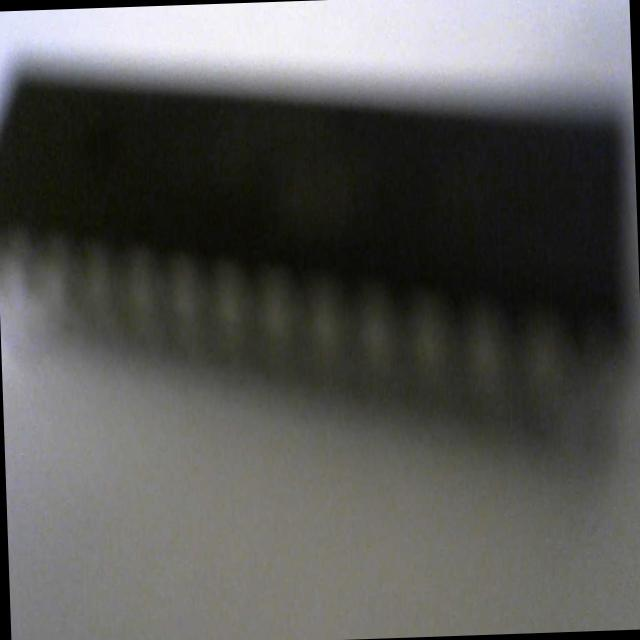atmega: (0, 12, 640, 493)
